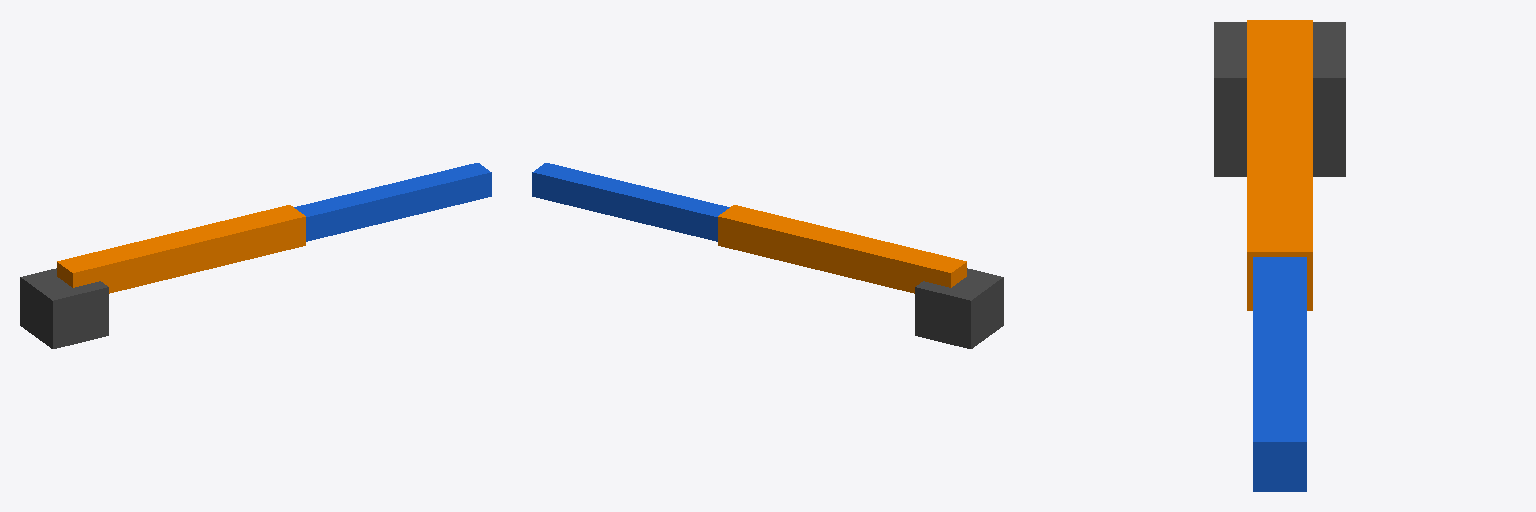
URDF robot description (rrbot):
<?xml version="1.0"?>
<!--
  Minimal 2-DOF "RRBot" for ros2_control_demo_example_19.

  Hardware: mock_components/GenericSystem (no Gazebo, no real robot) with
  position+velocity command and position+velocity state interfaces - exactly what JTC with
  positions_upsampling consumes. Based on jtc_ws/smoke_test/rrbot.urdf, with simple
  box visuals added so the arm is visible in RViz.
-->
<robot name="rrbot">

  <material name="grey">   <color rgba="0.35 0.35 0.35 1.0"/></material>
  <material name="orange"> <color rgba="1.0 0.55 0.0 1.0"/></material>
  <material name="blue">   <color rgba="0.15 0.45 0.9 1.0"/></material>

  <!-- fixed base pedestal -->
  <link name="base_link">
    <visual>
      <origin xyz="0 0 0.05"/>
      <geometry><box size="0.12 0.12 0.1"/></geometry>
      <material name="grey"/>
    </visual>
    <collision>
      <origin xyz="0 0 0.05"/>
      <geometry><box size="0.12 0.12 0.1"/></geometry>
    </collision>
  </link>

  <!-- first arm link -->
  <link name="link1">
    <visual>
      <origin xyz="0.25 0 0"/>
      <geometry><box size="0.5 0.06 0.06"/></geometry>
      <material name="orange"/>
    </visual>
    <collision>
      <origin xyz="0.25 0 0"/>
      <geometry><box size="0.5 0.06 0.06"/></geometry>
    </collision>
  </link>

  <!-- second arm link -->
  <link name="link2">
    <visual>
      <origin xyz="0.2 0 0"/>
      <geometry><box size="0.4 0.05 0.05"/></geometry>
      <material name="blue"/>
    </visual>
    <collision>
      <origin xyz="0.2 0 0"/>
      <geometry><box size="0.4 0.05 0.05"/></geometry>
    </collision>
  </link>

  <joint name="joint1" type="revolute">
    <parent link="base_link"/>
    <child link="link1"/>
    <origin xyz="0 0 0.1"/>
    <axis xyz="0 0 1"/>
    <limit lower="-3.14" upper="3.14" effort="100" velocity="10"/>
  </joint>

  <joint name="joint2" type="revolute">
    <parent link="link1"/>
    <child link="link2"/>
    <origin xyz="0.5 0 0"/>
    <axis xyz="0 0 1"/>
    <limit lower="-3.14" upper="3.14" effort="100" velocity="10"/>
  </joint>

  <ros2_control name="MockSystem" type="system">
    <hardware>
      <plugin>mock_components/GenericSystem</plugin>
    </hardware>
    <joint name="joint1">
      <command_interface name="position"/>
      <command_interface name="velocity"/>
      <state_interface name="position"><param name="initial_value">0.0</param></state_interface>
      <state_interface name="velocity"><param name="initial_value">0.0</param></state_interface>
    </joint>
    <joint name="joint2">
      <command_interface name="position"/>
      <command_interface name="velocity"/>
      <state_interface name="position"><param name="initial_value">0.0</param></state_interface>
      <state_interface name="velocity"><param name="initial_value">0.0</param></state_interface>
    </joint>
  </ros2_control>

</robot>

--- Facts derived from the render (not from the file) ---
Views: 3 orthographic renders of the robot side by side, from view 1: azimuth 30°, elevation 25°; view 2: azimuth 150°, elevation 25°; view 3: azimuth 270°, elevation 25°.
Robot: rrbot — 3 links, 2 joints (2 revolute); root link base_link; default pose: all joints at 0.
Links seen in each view (by area): view 1: link1, link2, base_link; view 2: link1, link2, base_link; view 3: link1, link2, base_link.
Boxes of the visible links, bbox=[...] form: link1: bbox=[57, 205, 305, 293]; link2: bbox=[294, 163, 491, 241]; base_link: bbox=[20, 268, 108, 348]; link1: bbox=[718, 205, 966, 293]; link2: bbox=[532, 163, 729, 241]; base_link: bbox=[915, 268, 1003, 348]; link1: bbox=[1247, 20, 1312, 310]; link2: bbox=[1253, 257, 1306, 491]; base_link: bbox=[1214, 22, 1345, 176].
Bounding box of the posed robot: 0.96 × 0.12 × 0.13 m (x, y, z).
Geometry: primitives only (box / cylinder / sphere), no mesh files.
